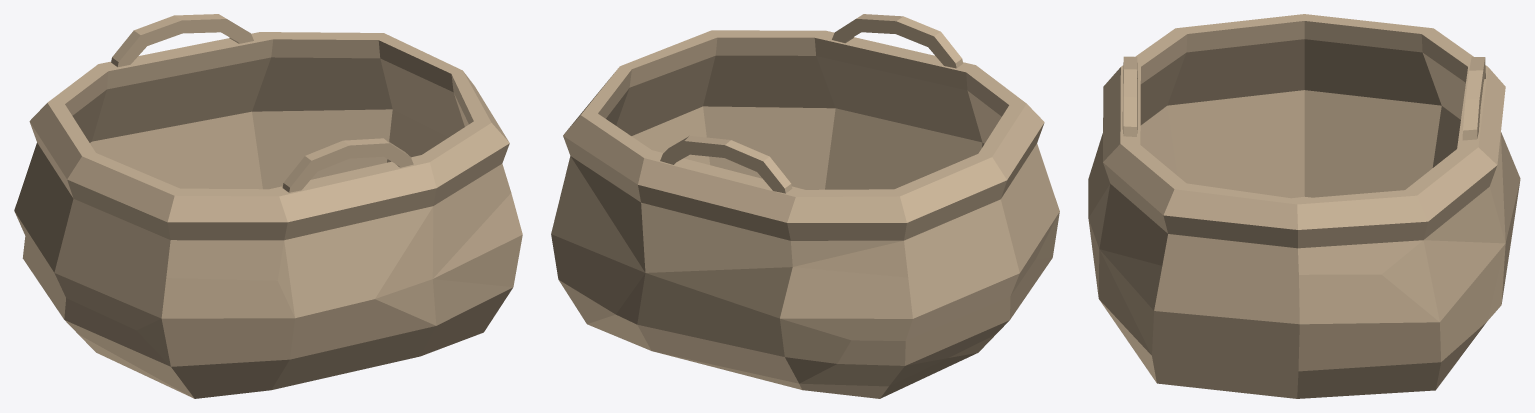
Rendered from SM_Prop_Sack_04.fbx.
3 views of the same model, side by side, from view 1: azimuth 30°, elevation 25°; view 2: azimuth 150°, elevation 25°; view 3: azimuth 270°, elevation 25° (orthographic).
Visible parts, largest first — view 1: SM_Prop_Sack_04; view 2: SM_Prop_Sack_04; view 3: SM_Prop_Sack_04.
Part boxes in pixels (x1,y1,x2,y2): SM_Prop_Sack_04: [14, 14, 522, 398]; SM_Prop_Sack_04: [551, 14, 1059, 398]; SM_Prop_Sack_04: [1088, 14, 1520, 398].
Size of the model in its own units: 78.7 by 41.92 by 68.38.
